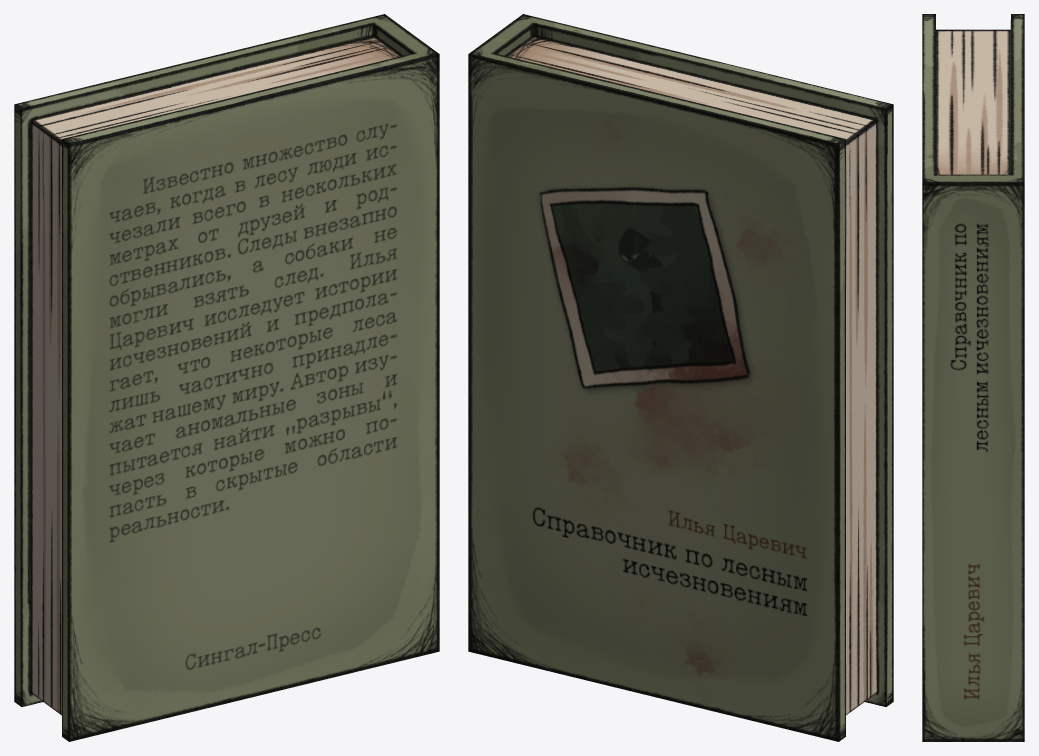
File: book_8.fbx
3 renders of one model, left to right at view 1: azimuth 30°, elevation 25°; view 2: azimuth 150°, elevation 25°; view 3: azimuth 270°, elevation 25°, orthographic. The views are drawn at different scales.
Visible parts, largest first — view 1: book_1; view 2: book_1; view 3: book_1.
Boxes of the visible parts, bbox=[...] form: book_1: bbox=[14, 14, 439, 741]; book_1: bbox=[468, 14, 893, 741]; book_1: bbox=[922, 14, 1024, 741].
Size of the model in its own units: 29.92 by 46.11 by 7.66.
1 material, 1 textured.
